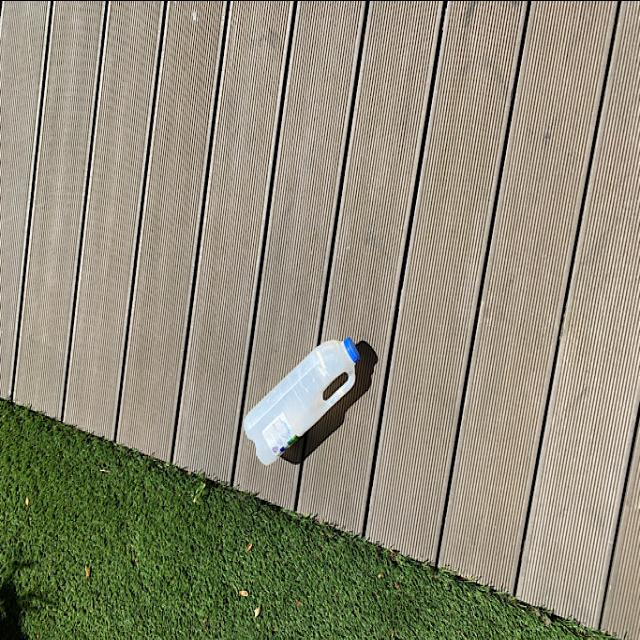HDPEM: (235, 328, 368, 467)
